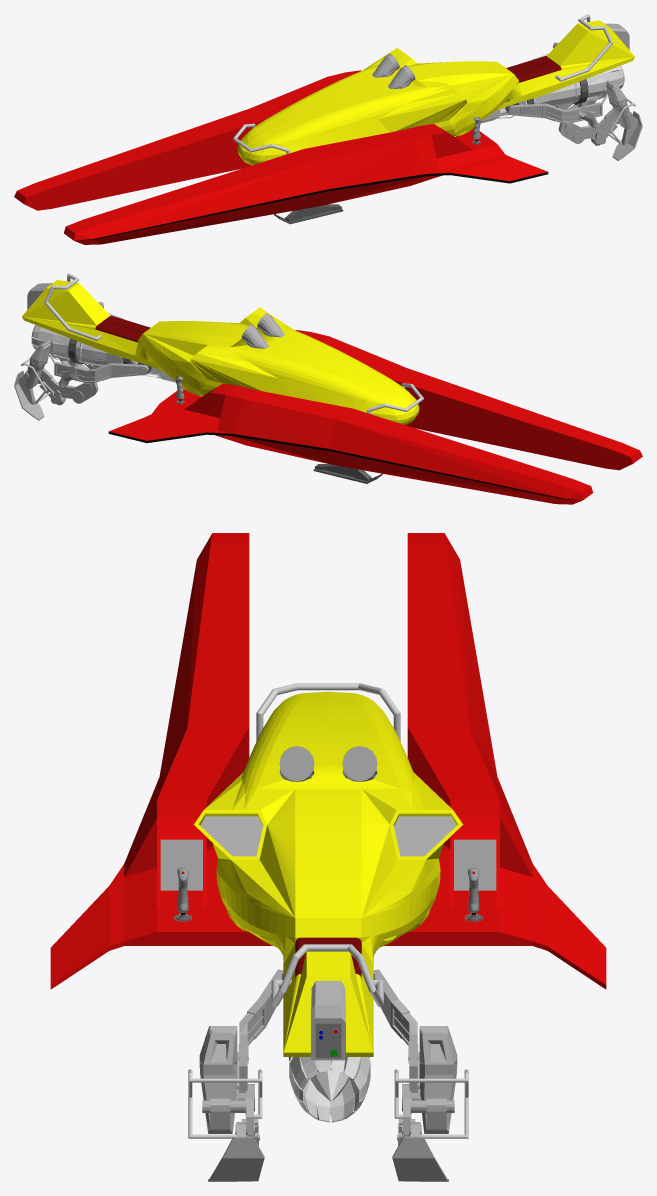
3 renders of one model, top to bottom at view 1: azimuth 30°, elevation 25°; view 2: azimuth 150°, elevation 25°; view 3: azimuth 270°, elevation 25°, orthographic. The views are drawn at different scales.
Visible parts, largest first — view 1: gld1, bfd2, bfd1; view 2: gld1, bfd1, bfd2; view 3: gld1, bfd1, bfd2.
Part boxes in pixels (x1,y1,x2,y2): gld1: (14,14,642,244); bfd2: (241,67,521,165); bfd1: (237,47,505,159); gld1: (14,273,642,504); bfd1: (135,327,415,424); bfd2: (151,307,419,419); gld1: (50,533,606,1181); bfd1: (328,691,452,964); bfd2: (204,691,328,964).
Bounding box in the file's own units: 19.69 × 4.06 × 8.14.
